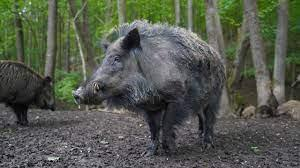wildboar: (70, 17, 227, 157), (0, 58, 56, 125)
